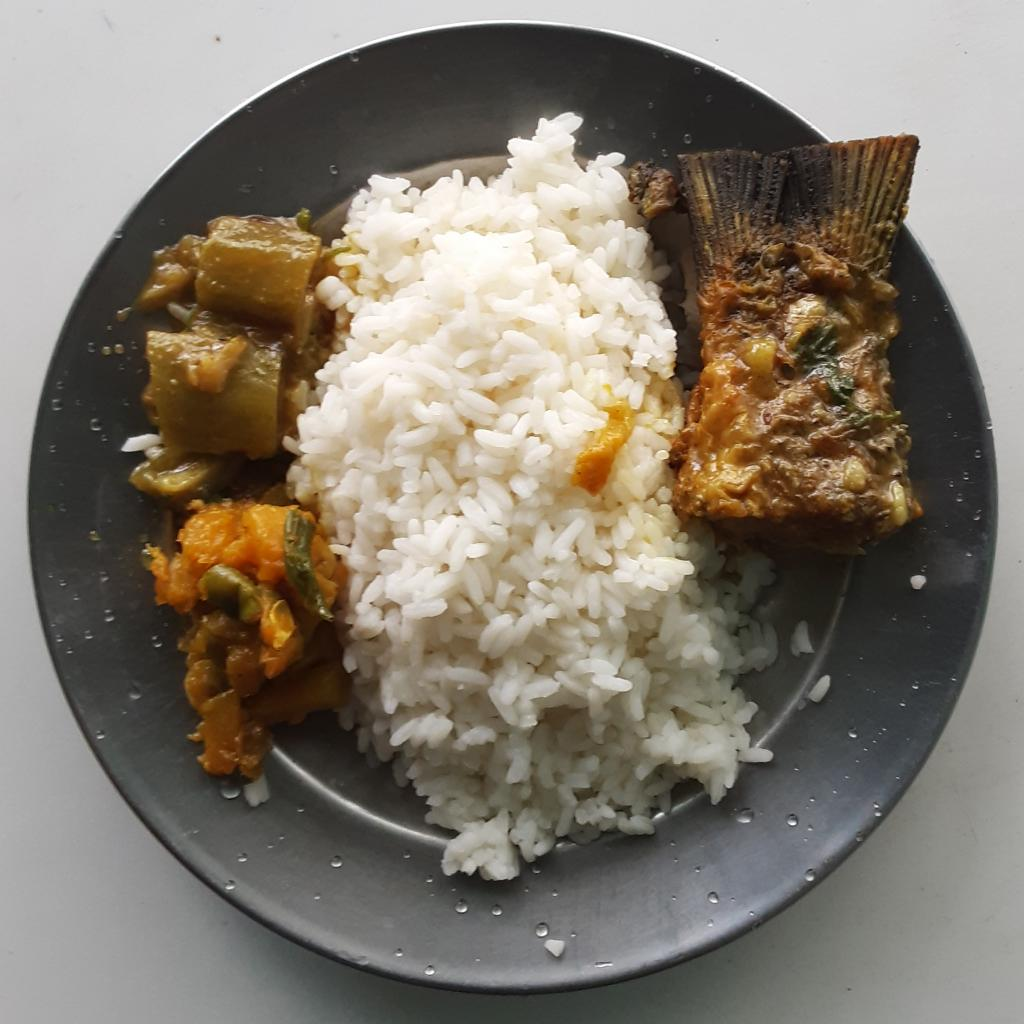dundol: (126, 214, 324, 497)
fish: (629, 136, 917, 556)
kumra-vaji: (152, 497, 353, 785)
rice: (280, 113, 809, 883)
